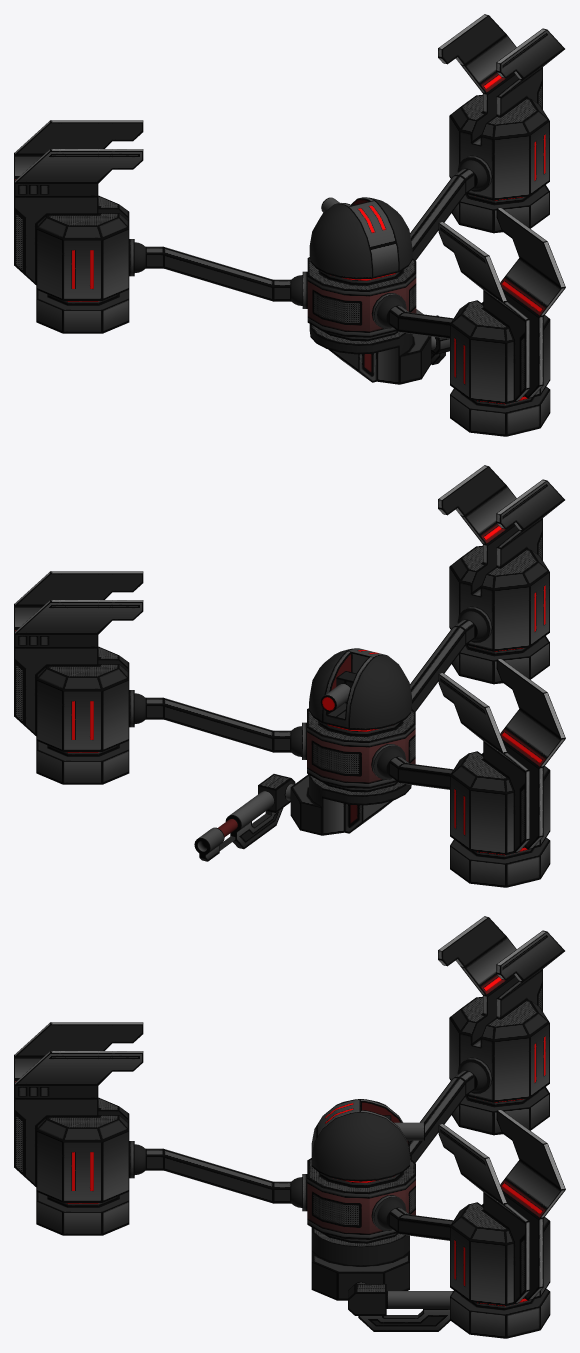
The model's file is demon_001.fbx.
3 views of the same model, one above another, from view 1: azimuth 30°, elevation 25°; view 2: azimuth 150°, elevation 25°; view 3: azimuth 270°, elevation 25° (orthographic).
Parts seen in each view (by area): view 1: nacelle003, nacelle001, nacelle002, turret_y_1, main, turret_y, arm003, arm002, arm001; view 2: nacelle002, nacelle003, nacelle001, turret_y_1, main, turret_y, arm002, turret_x, arm001, arm003, turret_x_1; view 3: nacelle001, nacelle002, nacelle003, turret_y_1, main, turret_y, arm001, turret_x, arm003, arm002.
Boxes of the visible parts, x1,y1,x2,y2 form: nacelle003: [14, 120, 143, 333]; nacelle001: [438, 207, 565, 436]; nacelle002: [438, 14, 564, 233]; turret_y_1: [309, 197, 412, 279]; main: [302, 257, 416, 341]; turret_y: [309, 324, 436, 384]; arm003: [134, 242, 302, 305]; arm002: [410, 160, 486, 260]; arm001: [377, 297, 453, 338]; nacelle002: [14, 571, 143, 784]; nacelle003: [438, 658, 565, 887]; nacelle001: [438, 465, 564, 684]; turret_y_1: [309, 648, 411, 730]; main: [302, 708, 415, 792]; turret_y: [284, 774, 411, 835]; arm002: [134, 693, 301, 756]; turret_x: [194, 774, 295, 861]; arm001: [410, 611, 486, 711]; arm003: [377, 748, 453, 789]; turret_x_1: [320, 671, 356, 711]; nacelle001: [14, 1022, 143, 1235]; nacelle002: [438, 1109, 565, 1338]; nacelle003: [438, 916, 564, 1135]; turret_y_1: [311, 1099, 409, 1181]; main: [302, 1158, 415, 1243]; turret_y: [311, 1227, 409, 1300]; arm001: [134, 1144, 302, 1207]; turret_x: [348, 1284, 453, 1331]; arm003: [409, 1062, 486, 1162]; arm002: [377, 1199, 453, 1240].
Bounding box in the file's own units: 615 × 270 × 533.
